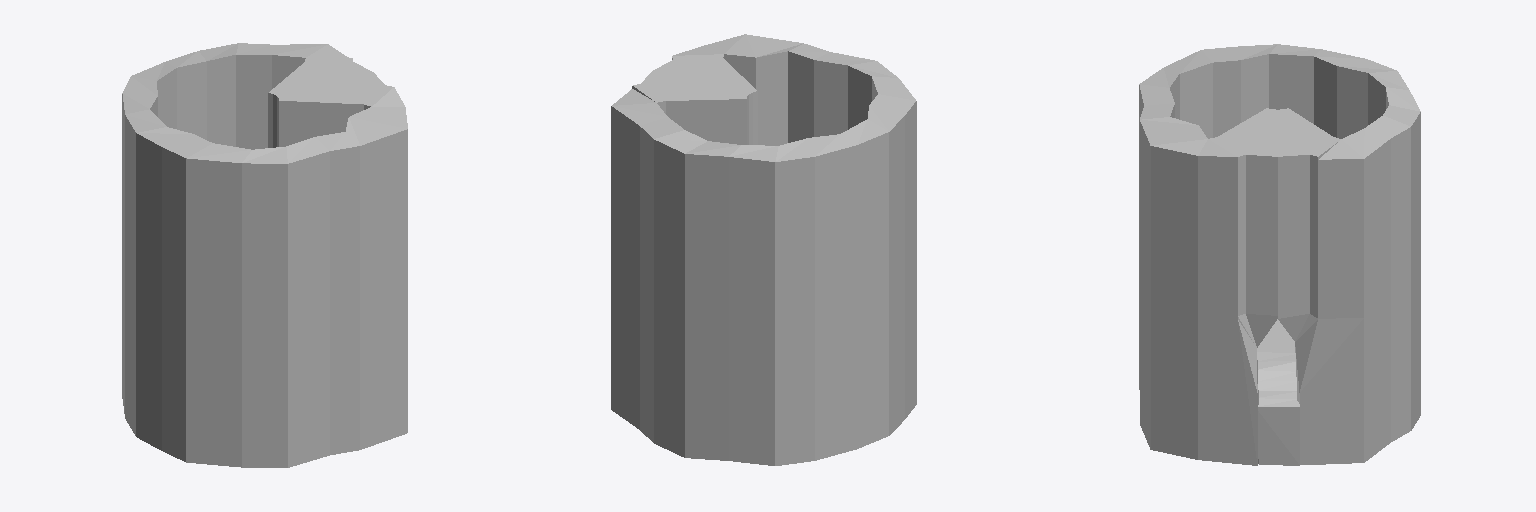
Rendered from spawnArea.obj.
3 renders of one model, left to right at view 1: azimuth 30°, elevation 25°; view 2: azimuth 150°, elevation 25°; view 3: azimuth 270°, elevation 25°, orthographic.
Parts seen in each view (by area): view 1: Cylinder; view 2: Cylinder; view 3: Cylinder, Plane.
Boxes of the visible parts, x1,y1,x2,y2 form: Cylinder: [122, 43, 407, 467]; Cylinder: [611, 34, 916, 465]; Cylinder: [1139, 44, 1420, 465]; Plane: [1257, 319, 1299, 465].
Size of the model in its own units: 17.6 by 21.76 by 17.79.